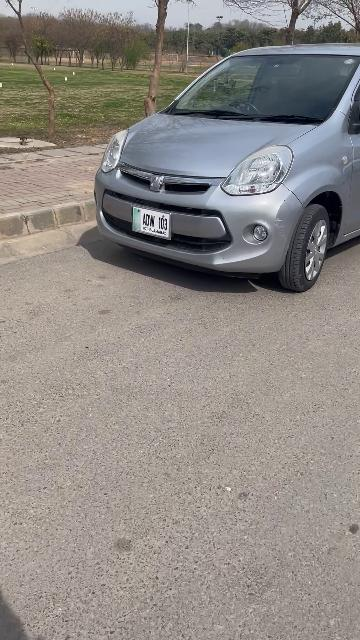plate: (132, 207, 170, 240)
